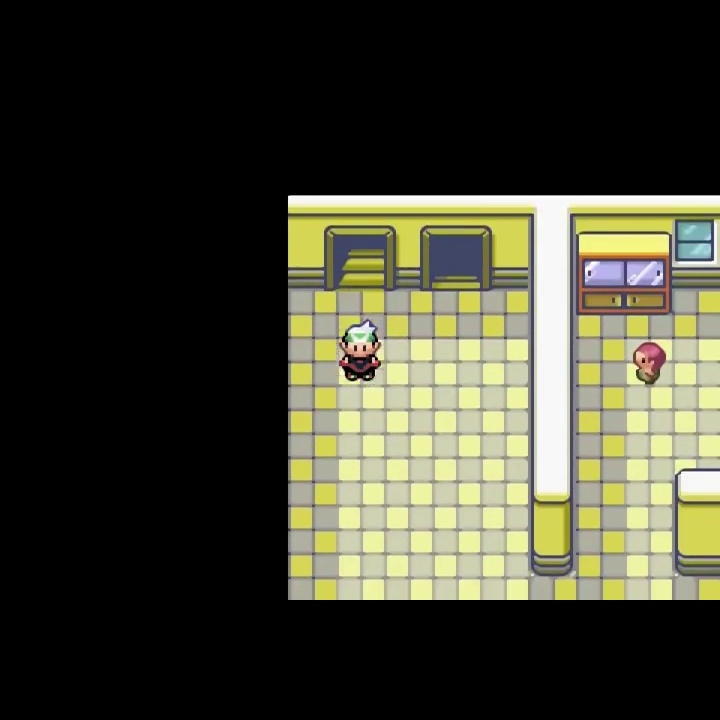npc: (336, 319, 386, 386), (628, 336, 669, 388)
